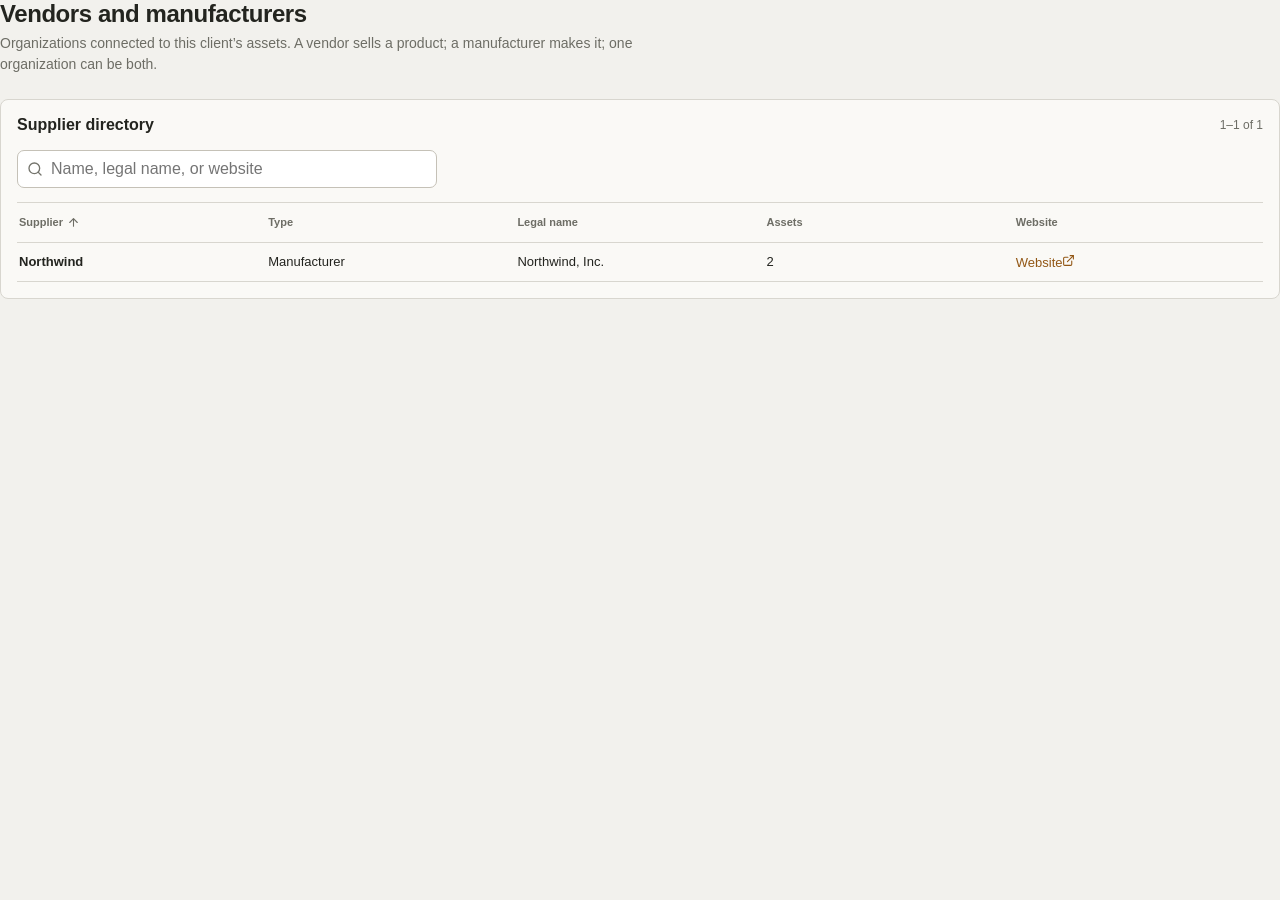
Test: Vendors › opens a complete supplier record with workspace and catalog links
This screenshot has width=1280, height=900.
Click the button "Northwind": (51, 262) [19,254,83,269]
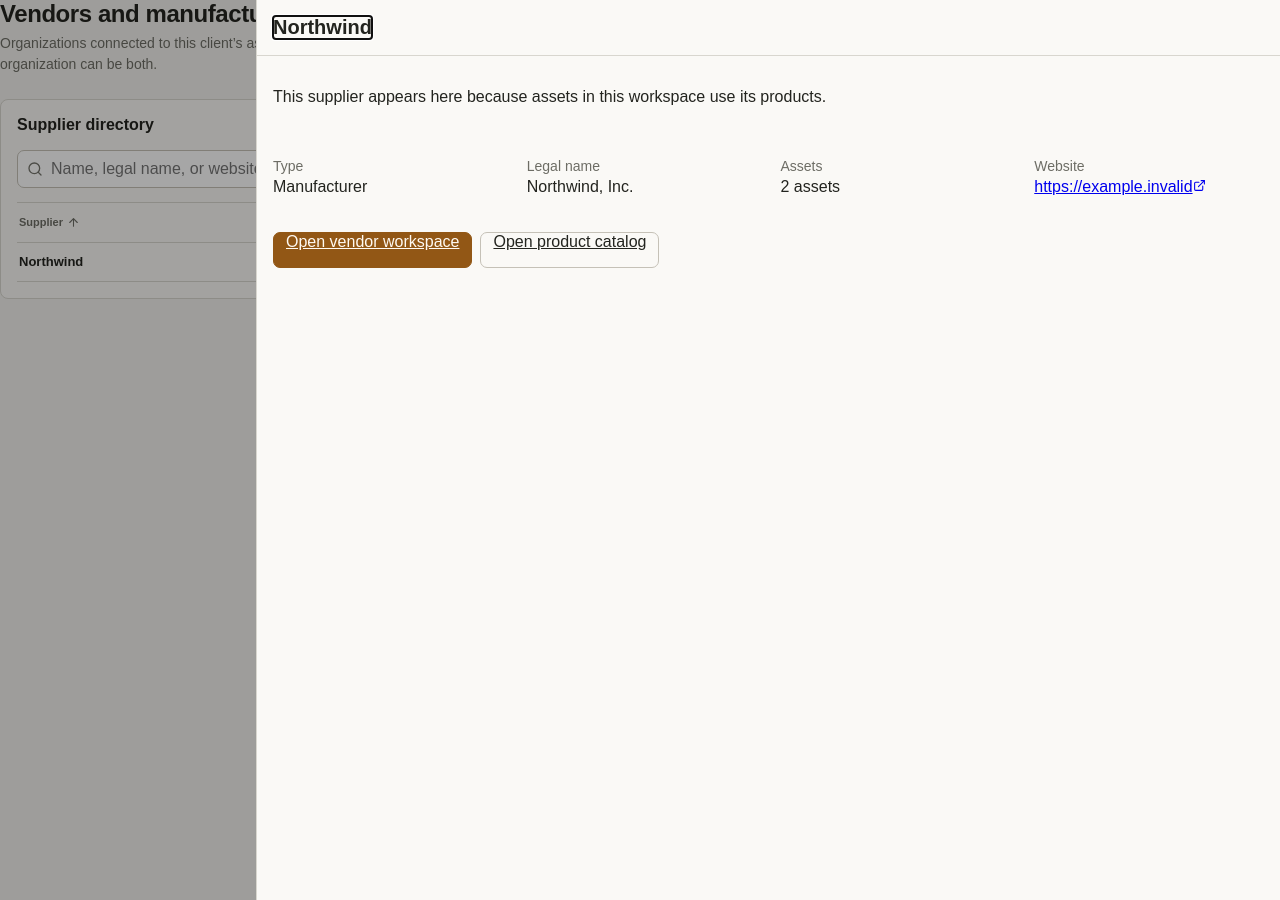
expect the text "Northwind, Inc." is shown: met, box [527,178,634,195]
expect the text "2 assets" is shown: met, box [780,178,840,195]
